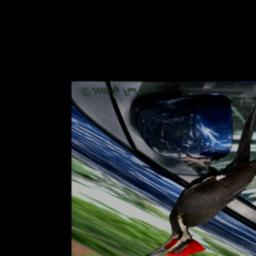Woodpecker: (142, 97, 256, 256)
